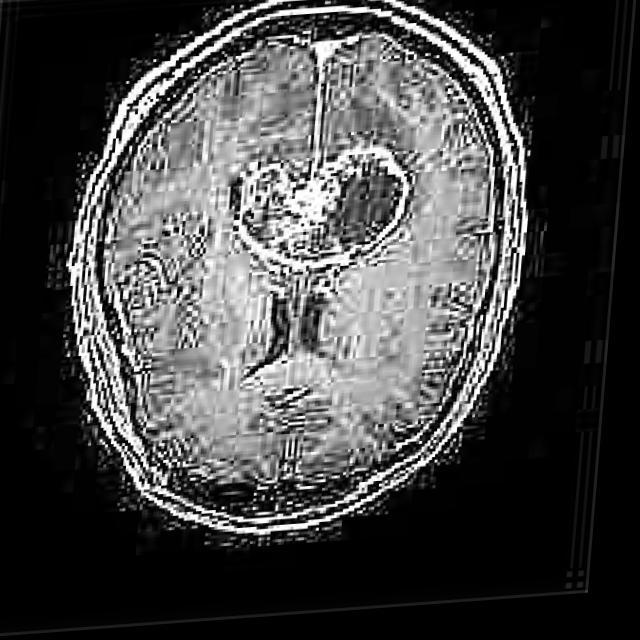Tumor: (234, 156, 415, 273)
